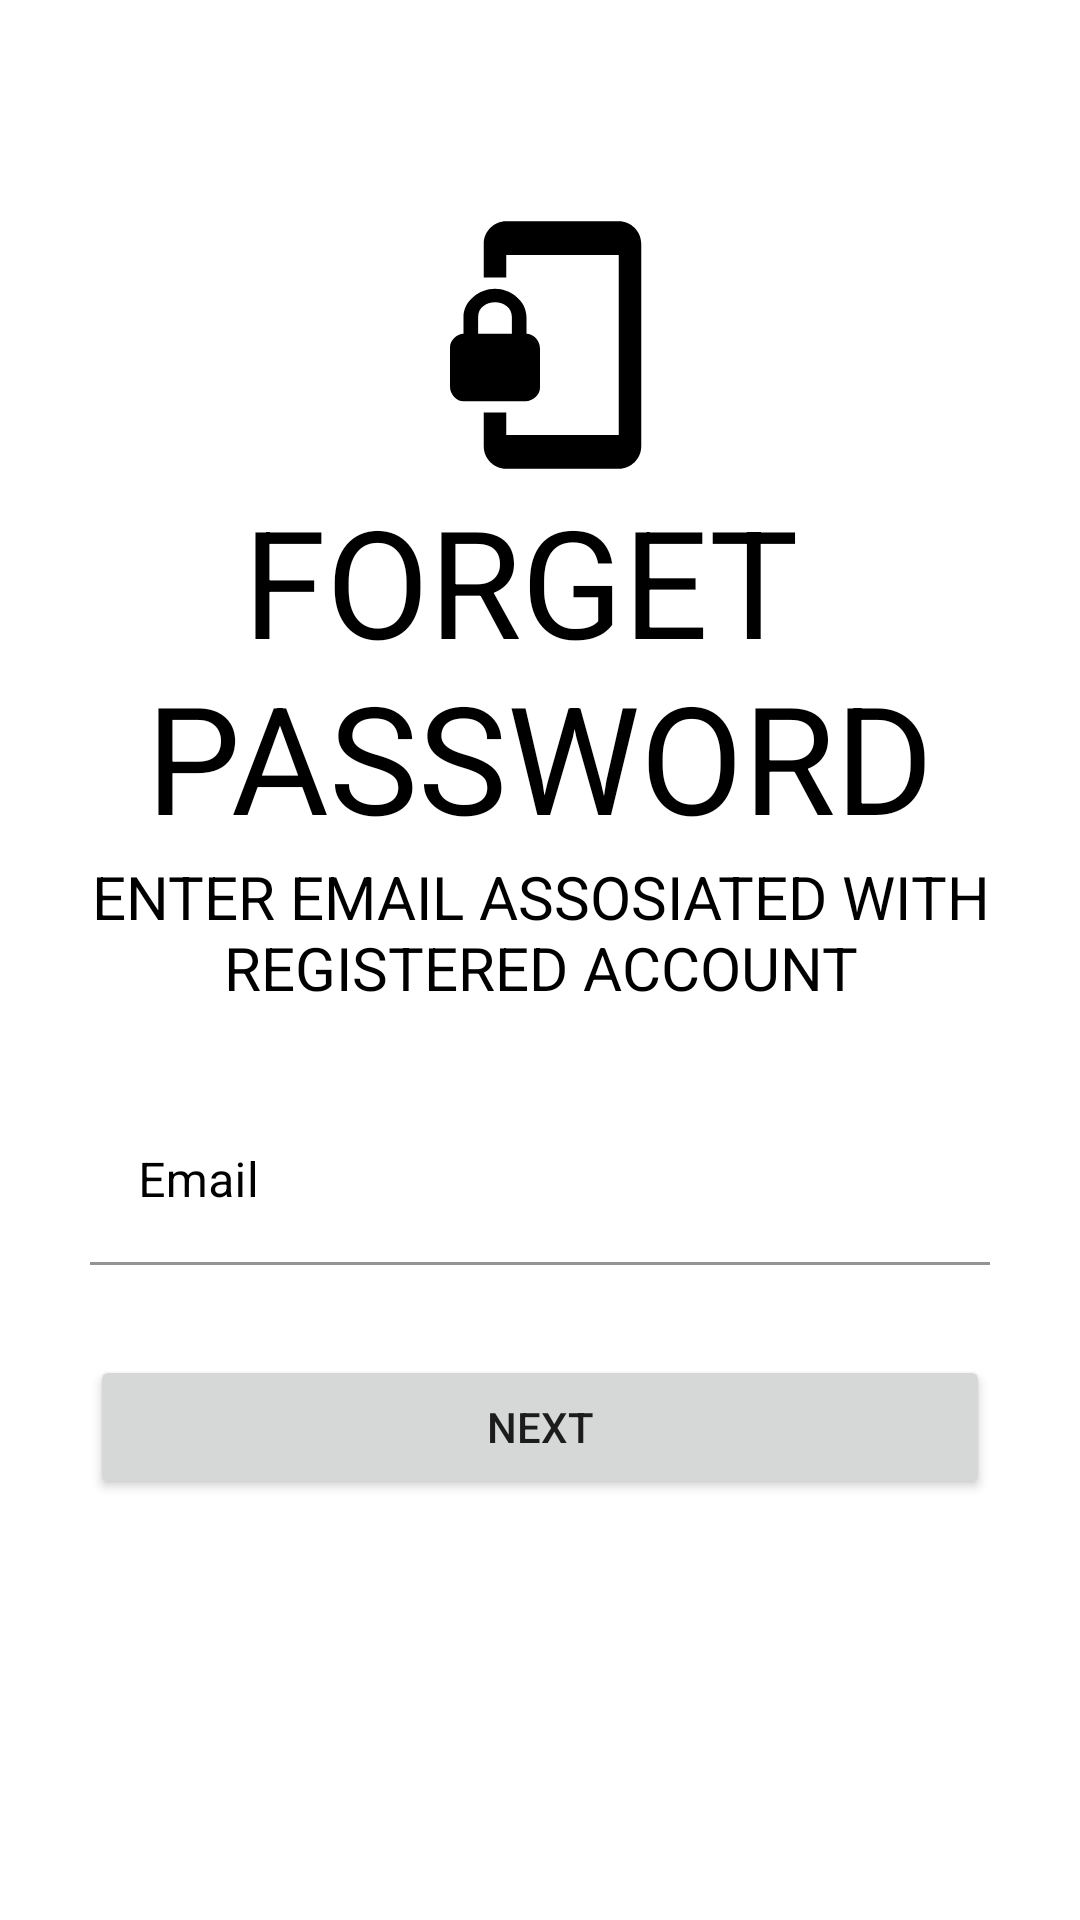

Named icons in this screenshot (1080 x 1920) and their bounding boxes, rect(x1, y1, x2, y2):
phonelink lock: rect(450, 221, 642, 469)
